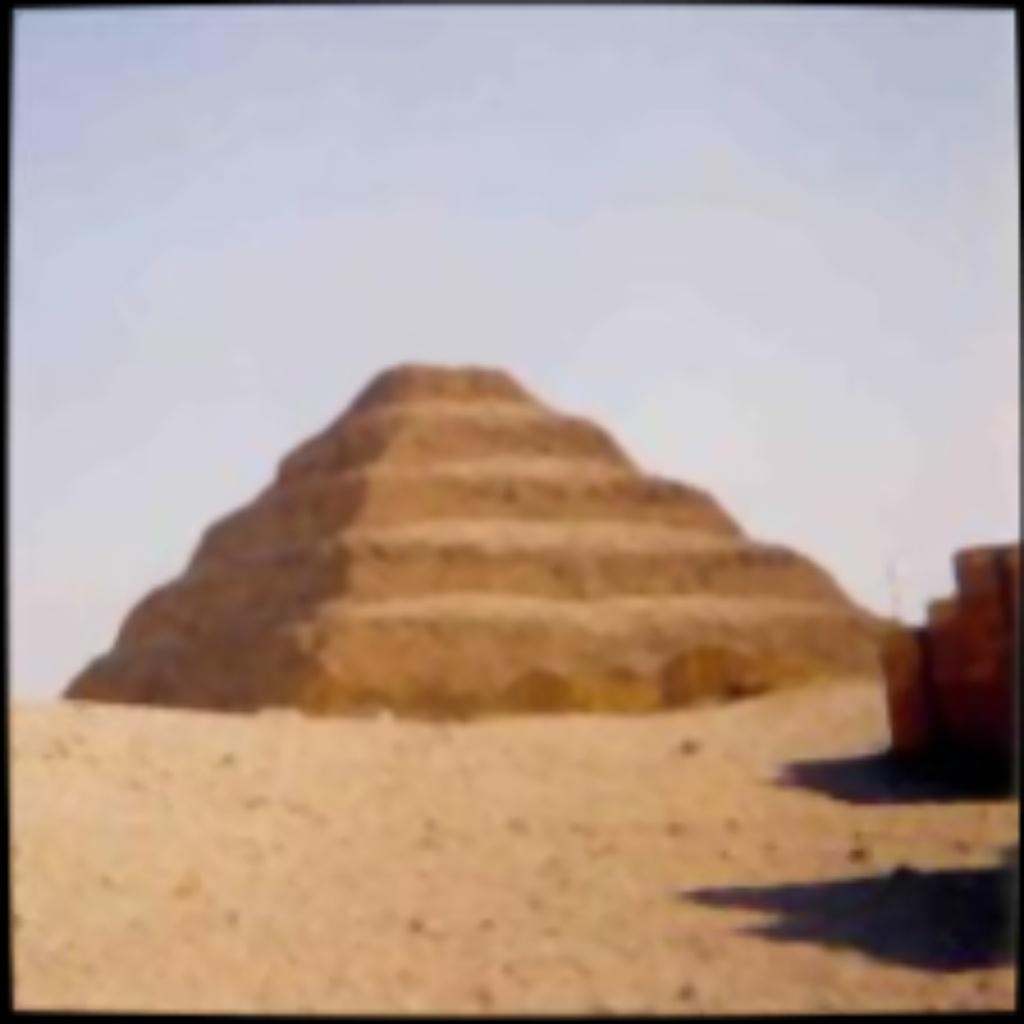Pyramid of Djoser: (60, 352, 910, 718)
